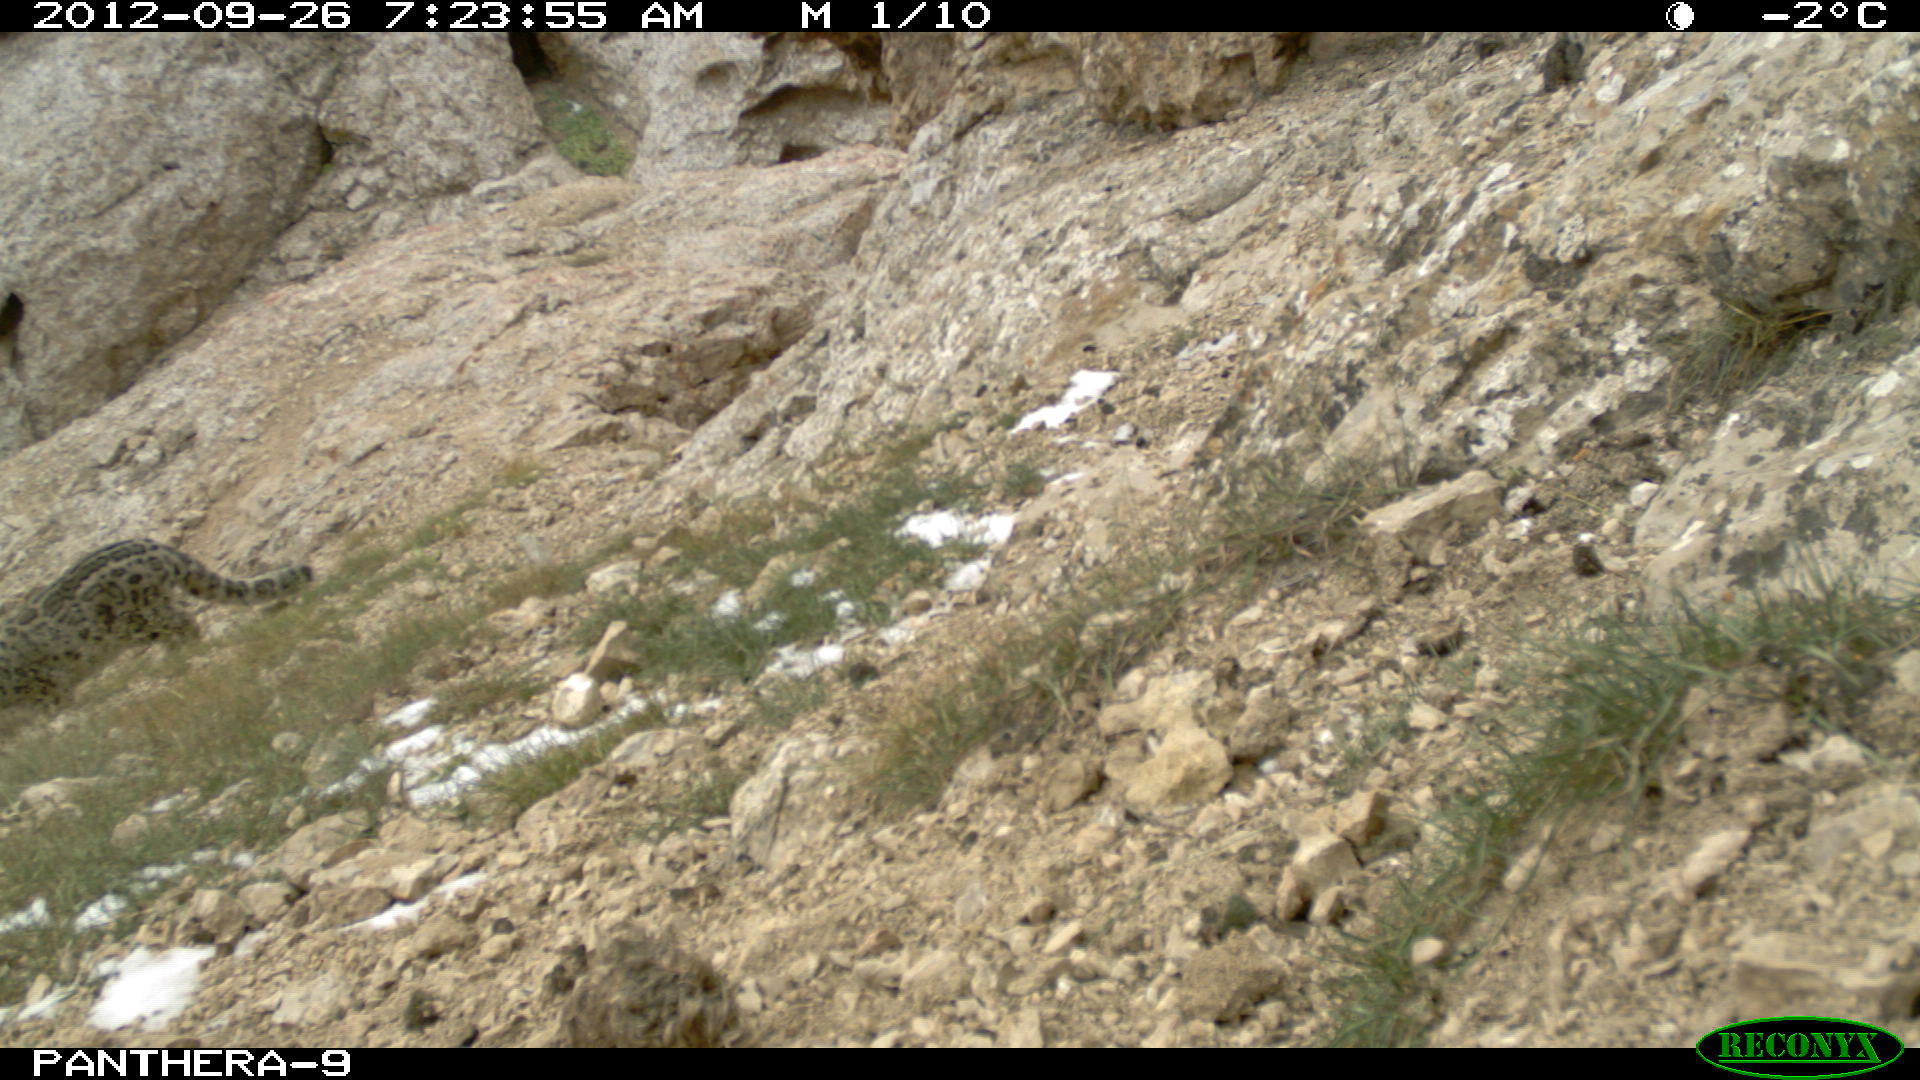Leopard: (1, 527, 327, 728)
